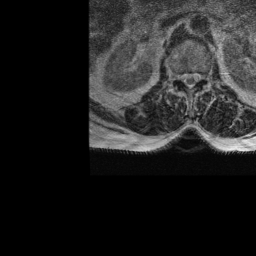CCS_normal: (185, 66, 193, 94)
LFS_normal: (200, 65, 207, 86)
LLS_normal: (193, 65, 200, 89)
RFS_normal: (172, 64, 179, 86)
RLS_normal: (179, 65, 185, 88)
